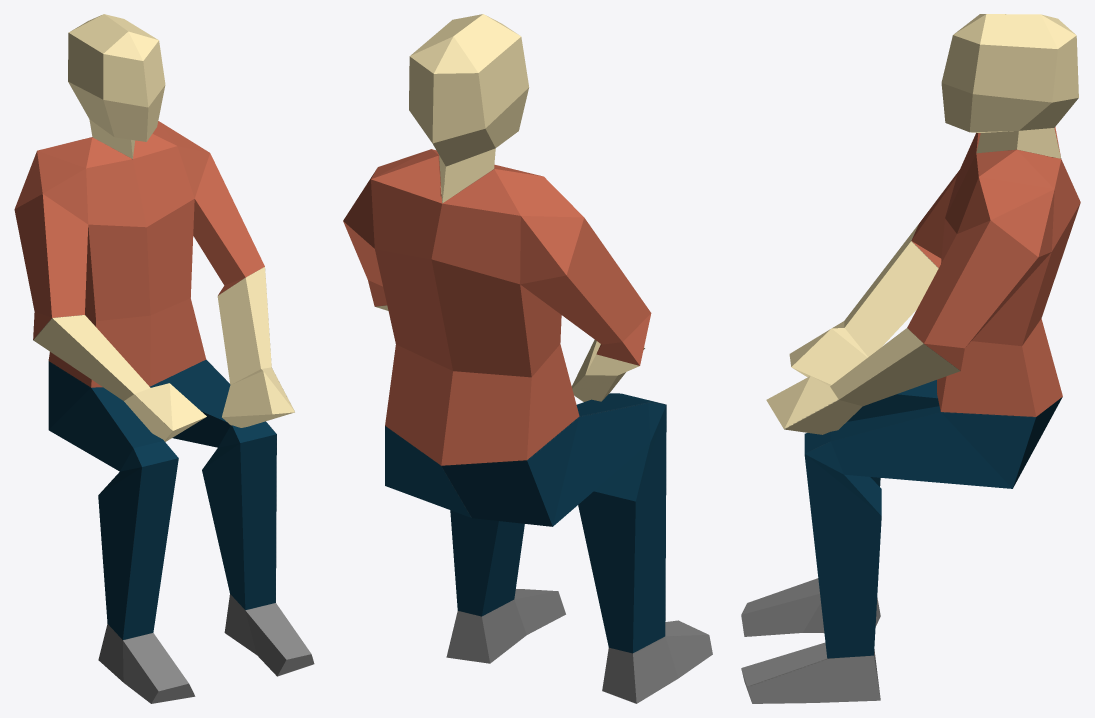
Rendered from human_sitting_relaxed.obj.
The picture shows the model from 3 angles, left to right: view 1: azimuth 30°, elevation 25°; view 2: azimuth 150°, elevation 25°; view 3: azimuth 270°, elevation 25°; orthographic projection. The views are drawn at different scales.
Parts seen in each view (by area): view 1: HumanLow_Cube; view 2: HumanLow_Cube; view 3: HumanLow_Cube.
Part boxes in pixels (x1=…): HumanLow_Cube: x1=14, y1=14, x2=314, y2=703; HumanLow_Cube: x1=343, y1=14, x2=712, y2=703; HumanLow_Cube: x1=741, y1=14, x2=1080, y2=703.
Bounding box in the file's own units: 1.25 × 3.12 × 1.49.
